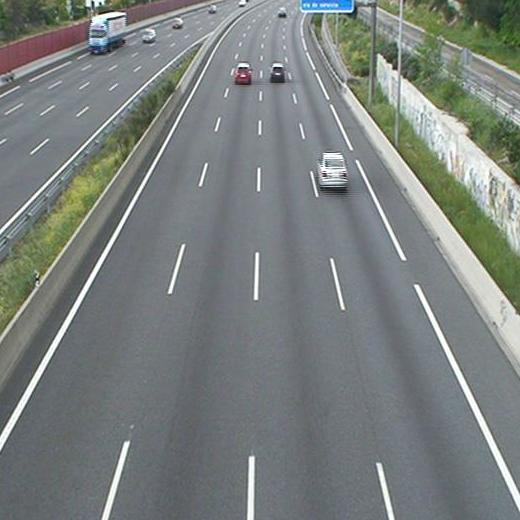car: (316, 150, 349, 191), (235, 62, 252, 84), (270, 63, 286, 82)
